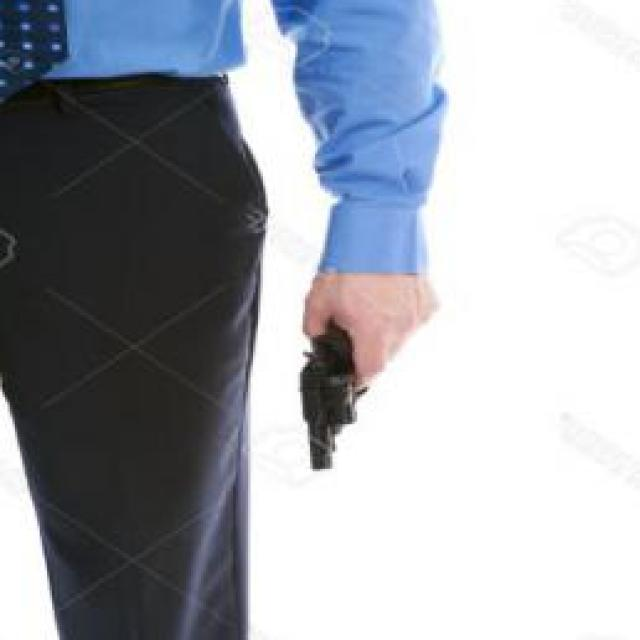pistol: (290, 305, 394, 470)
